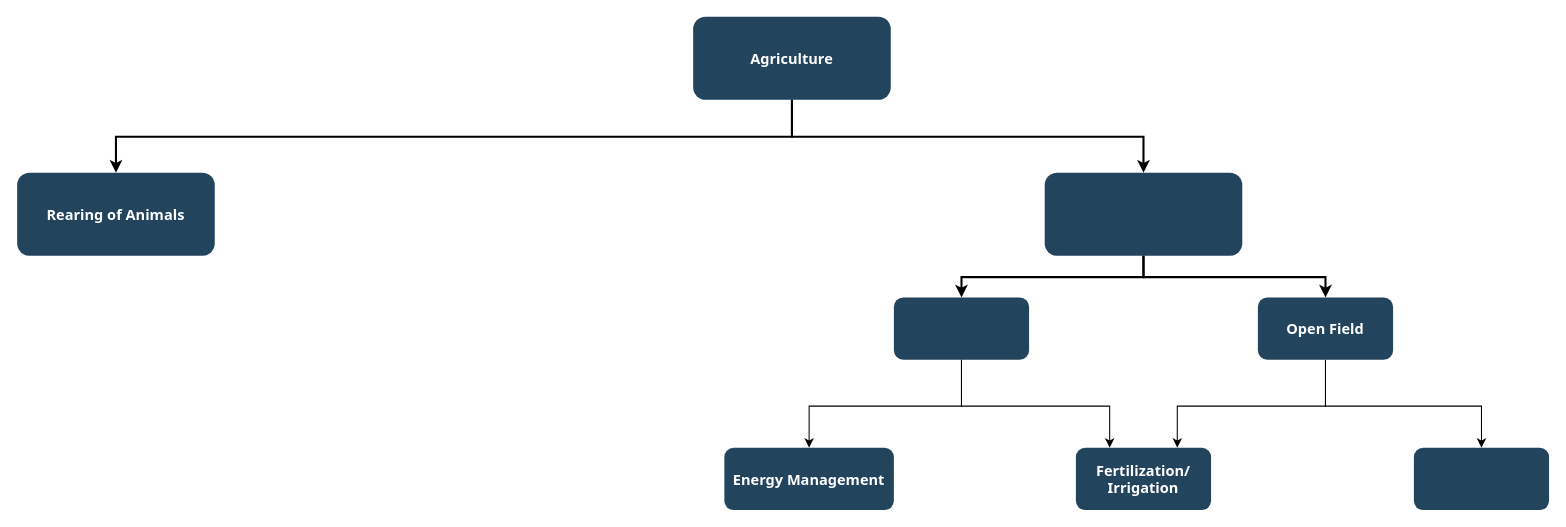
Image size: 1566x527. Some labels were removed from this diagram. The shapes that lost their labels are listed below. From the top down, each one's centre as x and y in pixels, then its label:
the point at 1143,213: Planting of Crops
the point at 961,328: Greenhouse
the point at 1481,478: Pest
